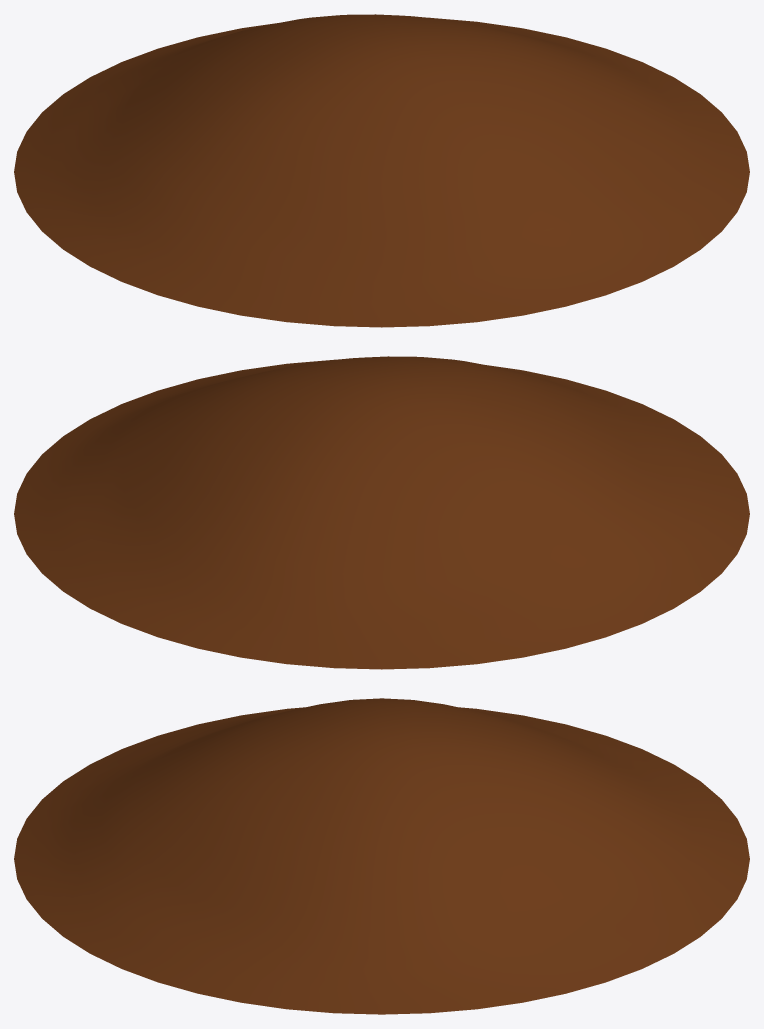
The model's file is MonteTerraTeste.fbx.
3 views of the same model, one above another, from view 1: azimuth 30°, elevation 25°; view 2: azimuth 150°, elevation 25°; view 3: azimuth 270°, elevation 25° (orthographic).
Parts seen in each view (by area): view 1: MonteTerraTeste; view 2: MonteTerraTeste; view 3: MonteTerraTeste.
Part boxes in pixels (x1,y1,x2,y2): MonteTerraTeste: (14,14,749,327); MonteTerraTeste: (14,356,749,669); MonteTerraTeste: (14,698,749,1014).
Bounding box in the file's own units: 1164 × 214 × 1164.
